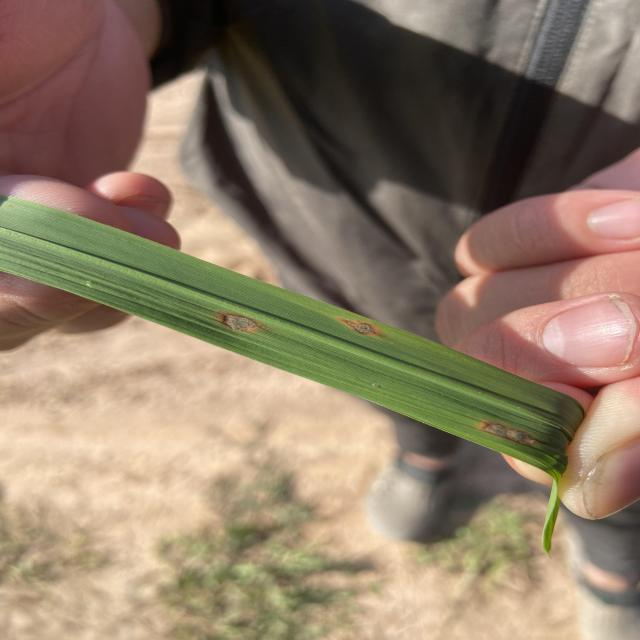Dao on: (482, 421, 532, 444), (223, 314, 259, 330), (342, 320, 379, 335)
